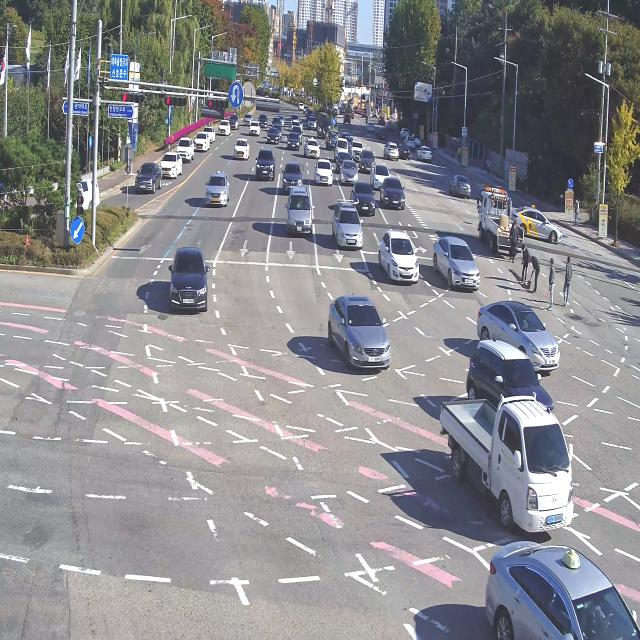Car: (319, 281, 402, 409), (475, 291, 561, 377), (164, 235, 213, 331), (428, 226, 486, 298), (377, 222, 425, 296), (327, 193, 368, 262), (515, 204, 570, 242), (198, 164, 233, 220), (284, 179, 312, 241), (348, 175, 385, 221), (132, 155, 166, 200), (377, 175, 412, 218), (252, 147, 278, 189), (159, 143, 183, 185), (446, 169, 474, 199), (313, 156, 337, 186), (192, 128, 213, 158), (232, 132, 250, 165), (304, 135, 326, 162), (382, 139, 402, 166), (283, 130, 302, 156), (246, 119, 264, 143), (266, 123, 280, 151), (218, 116, 232, 136)
Truck: (431, 375, 580, 551), (478, 176, 525, 268)
